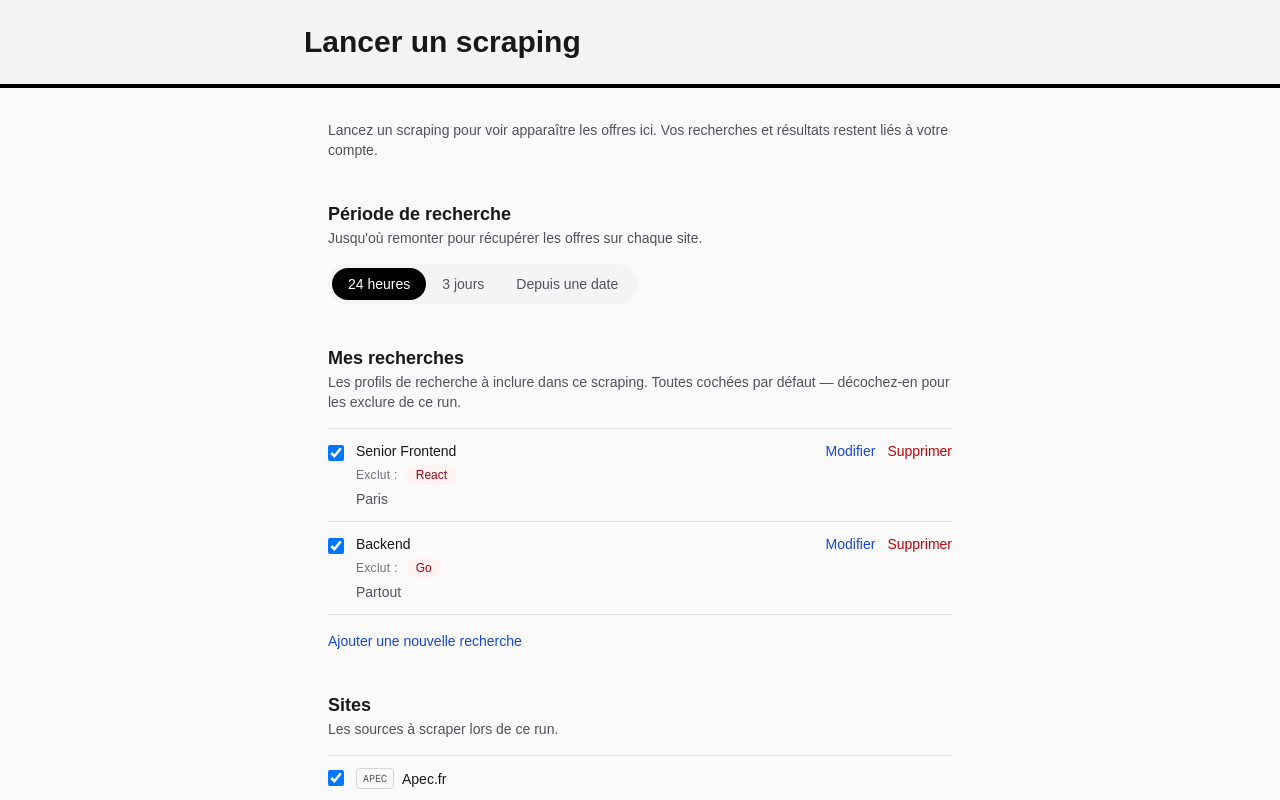
Test case: HomeClient — authenticated trigger › disables submit once every site is unchecked
Click the checkbox labelled "APEC Apec.fr": coordinates (336, 778) x1=328 y1=770 x2=344 y2=786
(page scrolled)
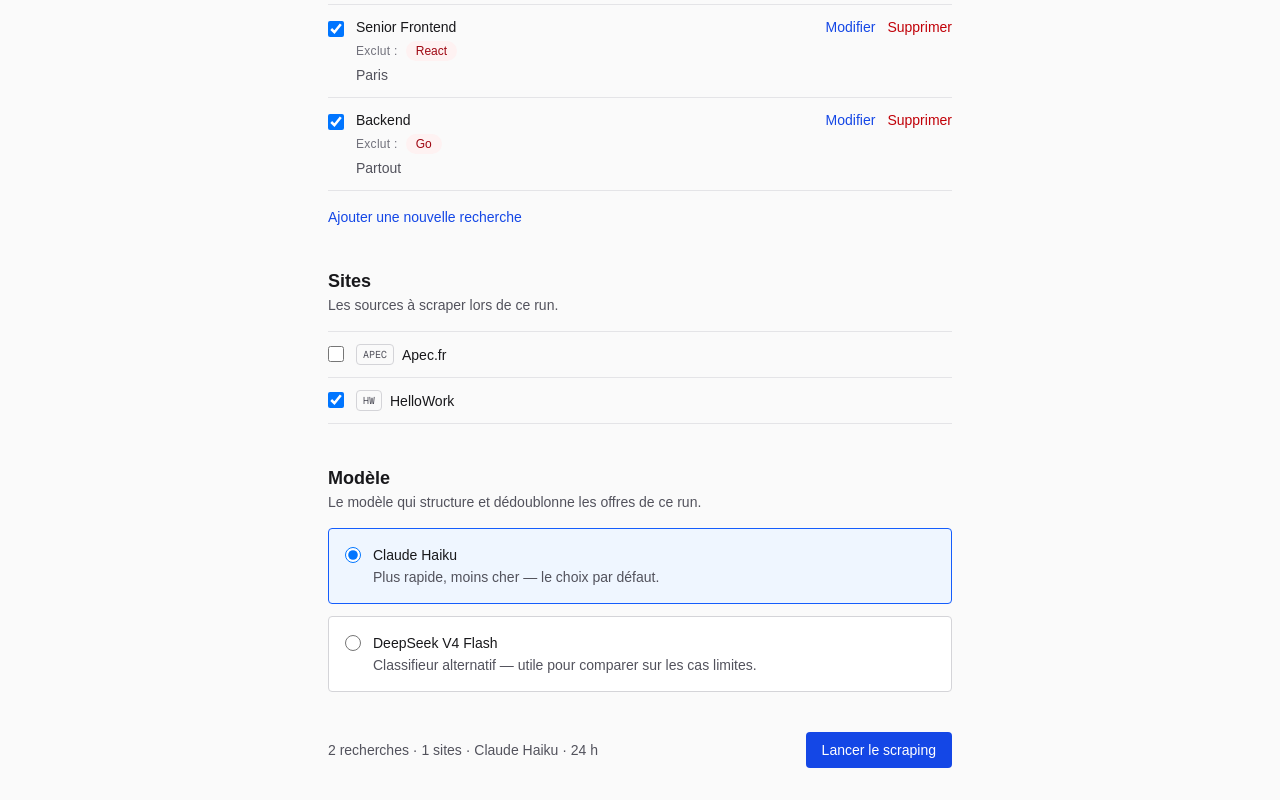
Click the checkbox labelled "HW HelloWork": coordinates (336, 400) x1=328 y1=392 x2=344 y2=408
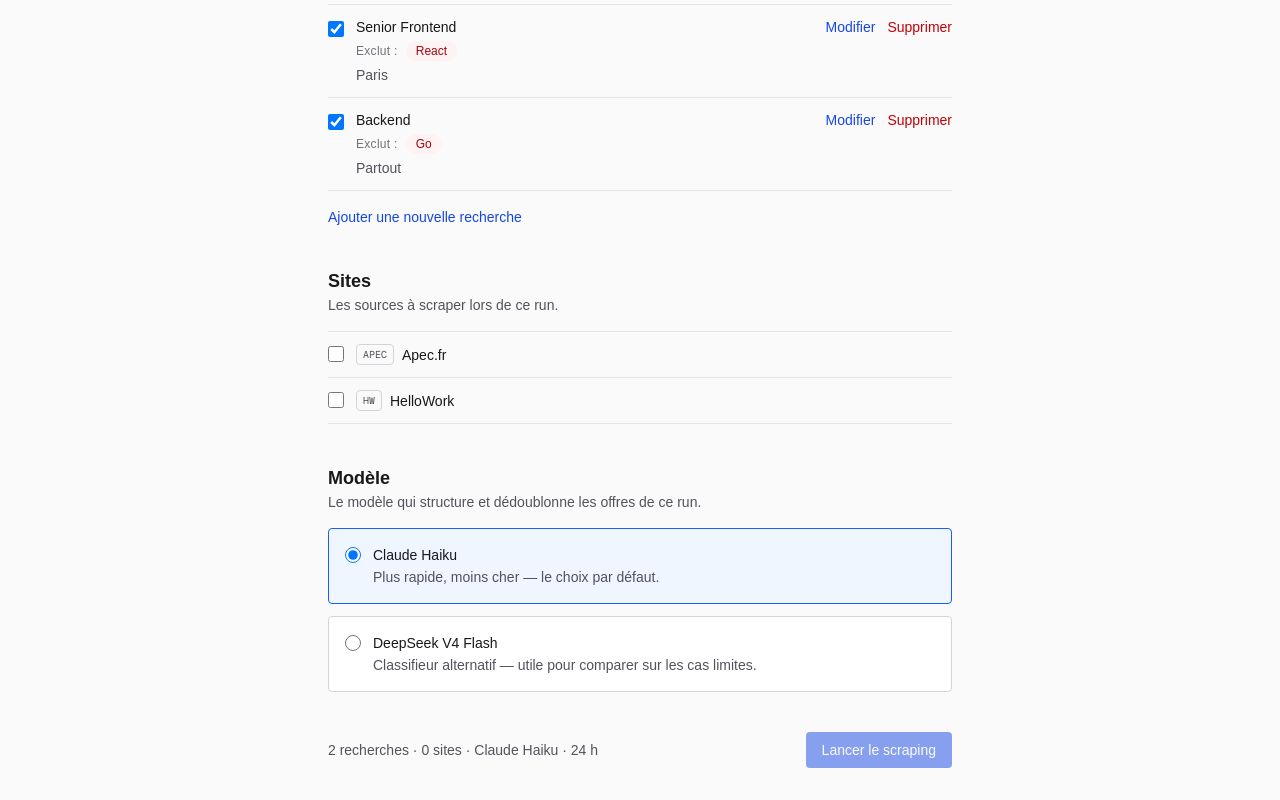
Check: the button "Lancer le scraping" is disabled, box x1=806 y1=732 x2=952 y2=768
